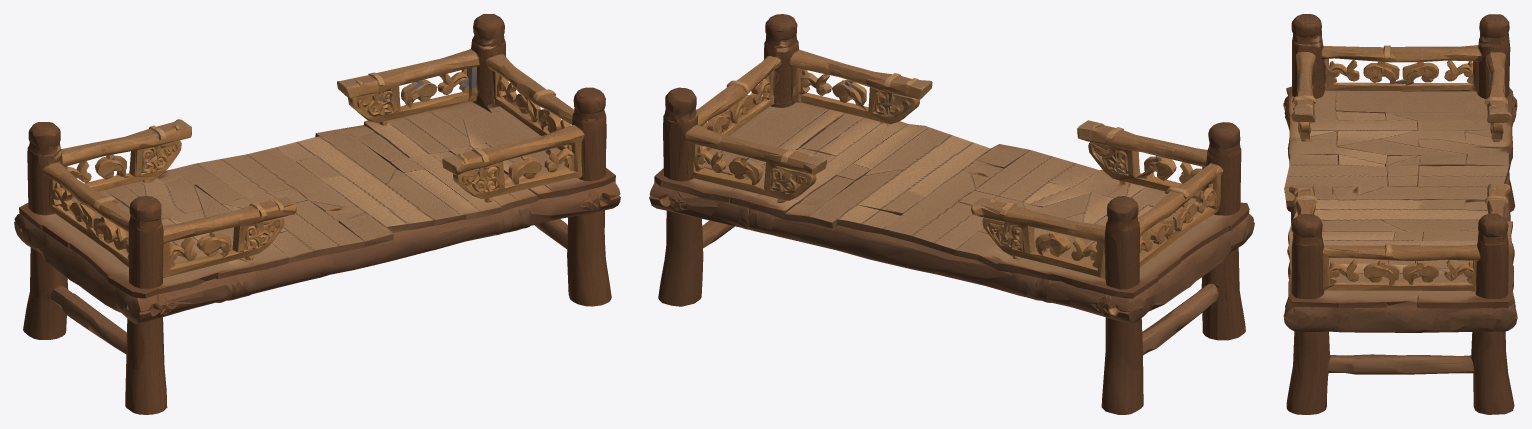
Rendered from bridge.glb.
The picture shows the model from 3 angles, left to right: view 1: azimuth 30°, elevation 25°; view 2: azimuth 150°, elevation 25°; view 3: azimuth 270°, elevation 25°; orthographic projection. The views are drawn at different scales.
Visible parts, largest first — view 1: mesh_node; view 2: mesh_node; view 3: mesh_node.
Boxes of the visible parts, x1,y1,x2,y2 form: mesh_node: (14, 14, 620, 414); mesh_node: (649, 14, 1254, 414); mesh_node: (1283, 14, 1517, 414).
Size of the model in its own units: 1.9 by 0.7676 by 0.8569.
1 material, 1 textured.
